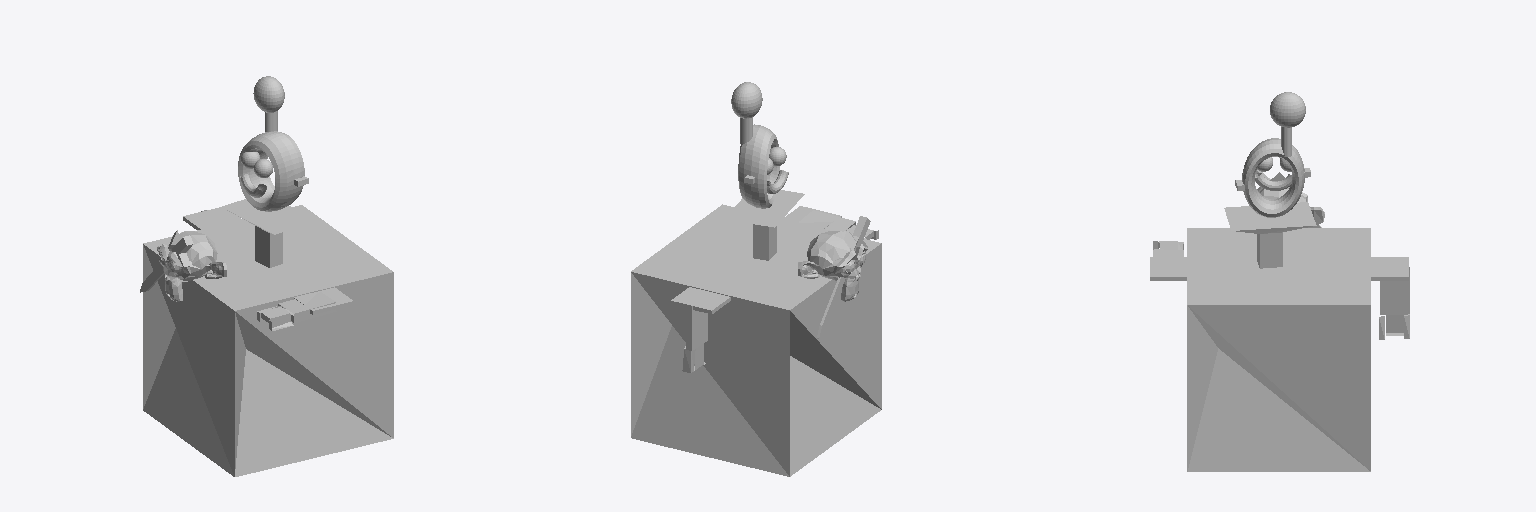
The model's file is Robot_000031.obj.
3 views of the same model, side by side, from view 1: azimuth 30°, elevation 25°; view 2: azimuth 150°, elevation 25°; view 3: azimuth 270°, elevation 25° (orthographic).
Visible parts, largest first — view 1: Cube.001_Cube, Cube_Cube.001, Suzanne, Cube.002_Cube.004, Left_Hand.001_Cube.005, Sphere, Cube.003_Cube.006; view 2: Cube.001_Cube, Cube_Cube.001, Suzanne, Cube.002_Cube.004, Left_Hand_Cube.002, Cube.003_Cube.006, Sphere, Left_Hand.001_Cube.005; view 3: Cube.001_Cube, Cube_Cube.001, Left_Hand_Cube.002, Cube.002_Cube.004, Sphere, Left_Hand.001_Cube.005.
Boxes of the visible parts, x1=… form: Cube.001_Cube: x1=143, y1=205, x2=393, y2=476; Cube_Cube.001: x1=222, y1=131, x2=316, y2=267; Suzanne: x1=157, y1=231, x2=226, y2=301; Cube.002_Cube.004: x1=183, y1=207, x2=353, y2=314; Left_Hand.001_Cube.005: x1=257, y1=292, x2=336, y2=330; Sphere: x1=253, y1=76, x2=284, y2=112; Cube.003_Cube.006: x1=140, y1=230, x2=193, y2=292; Cube.001_Cube: x1=631, y1=204, x2=881, y2=476; Cube_Cube.001: x1=723, y1=124, x2=804, y2=260; Suzanne: x1=798, y1=231, x2=867, y2=301; Cube.002_Cube.004: x1=671, y1=206, x2=841, y2=313; Left_Hand_Cube.002: x1=682, y1=305, x2=707, y2=372; Cube.003_Cube.006: x1=817, y1=216, x2=870, y2=338; Sphere: x1=731, y1=82, x2=762, y2=118; Left_Hand.001_Cube.005: x1=799, y1=210, x2=878, y2=239; Cube.001_Cube: x1=1187, y1=228, x2=1370, y2=471; Cube_Cube.001: x1=1224, y1=138, x2=1316, y2=268; Left_Hand_Cube.002: x1=1379, y1=267, x2=1409, y2=339; Cube.002_Cube.004: x1=1150, y1=257, x2=1408, y2=280; Sphere: x1=1270, y1=92, x2=1305, y2=127; Left_Hand.001_Cube.005: x1=1153, y1=241, x2=1184, y2=269.
Size of the model in its own units: 2.3 by 4.11 by 2.83.